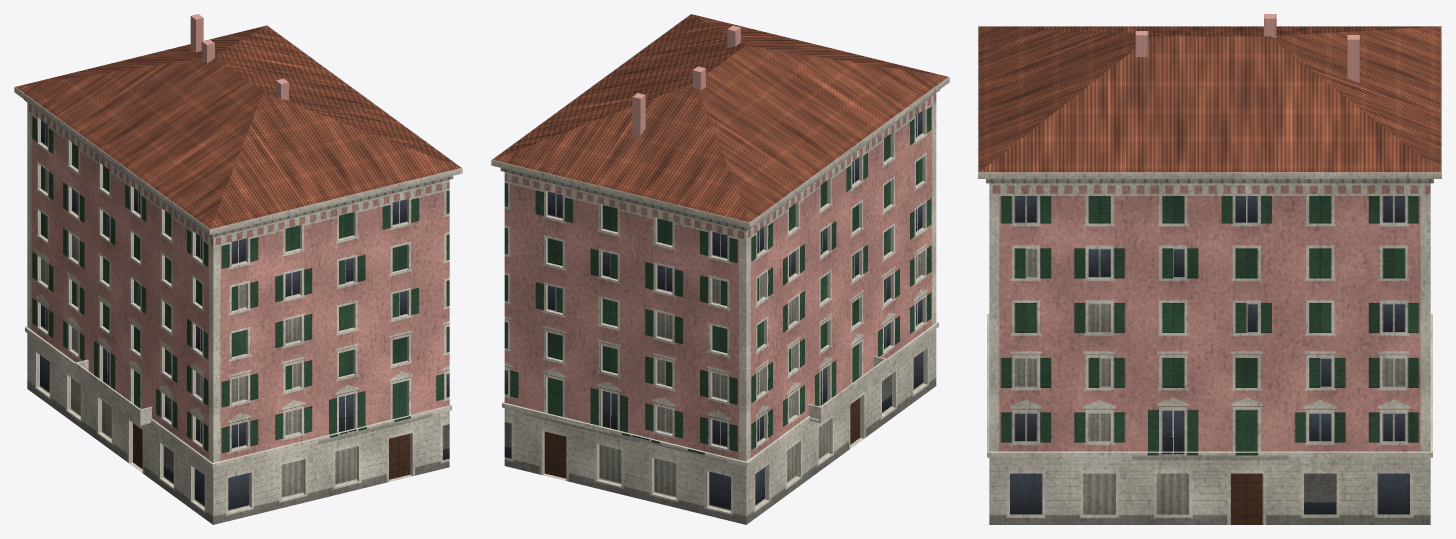
File: SM_Fondale_Palazzo_B.fbx
3 views of the same model, side by side, from view 1: azimuth 30°, elevation 25°; view 2: azimuth 150°, elevation 25°; view 3: azimuth 270°, elevation 25° (orthographic). The views are drawn at different scales.
Parts seen in each view (by area): view 1: SM_Fondale_Palazzo_B; view 2: SM_Fondale_Palazzo_B; view 3: SM_Fondale_Palazzo_B.
Part boxes in pixels (x1,y1,x2,y2): SM_Fondale_Palazzo_B: (14,14,462,524); SM_Fondale_Palazzo_B: (491,14,949,524); SM_Fondale_Palazzo_B: (978,14,1441,524).
Bounding box in the file's own units: 1957 × 2574 × 2679.
Materials: 1 (1 with a texture image).
